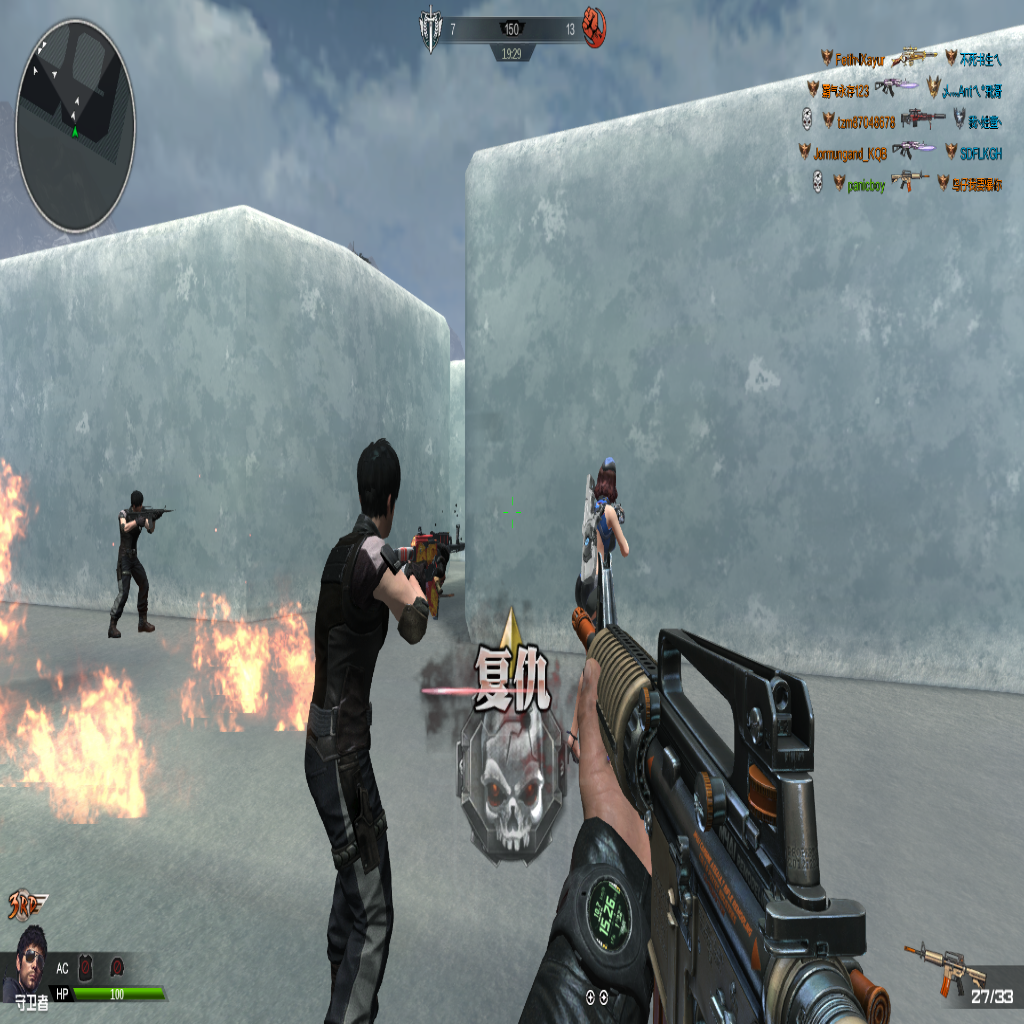ct: (577, 459, 626, 631)
